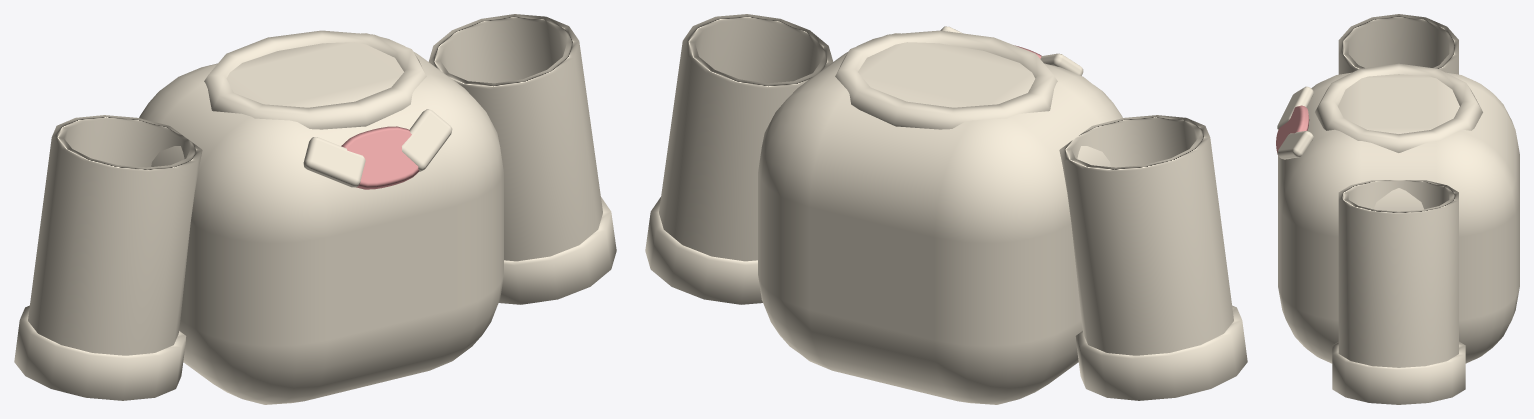
File: cardigan_school_uniform_top.glb
3 renders of one model, left to right at view 1: azimuth 30°, elevation 25°; view 2: azimuth 150°, elevation 25°; view 3: azimuth 270°, elevation 25°, orthographic. The views are drawn at different scales.
Parts seen in each view (by area): view 1: cardigan_school_uniform_top_Body, cardigan_school_uniform_top_ArmL, cardigan_school_uniform_top_ArmR; view 2: cardigan_school_uniform_top_Body, cardigan_school_uniform_top_ArmL, cardigan_school_uniform_top_ArmR; view 3: cardigan_school_uniform_top_Body, cardigan_school_uniform_top_ArmR, cardigan_school_uniform_top_ArmL.
Boxes of the visible parts, bbox=[...] form: cardigan_school_uniform_top_Body: bbox=[139, 30, 503, 404]; cardigan_school_uniform_top_ArmL: bbox=[14, 115, 202, 400]; cardigan_school_uniform_top_ArmR: bbox=[428, 14, 616, 304]; cardigan_school_uniform_top_Body: bbox=[758, 26, 1122, 404]; cardigan_school_uniform_top_ArmL: bbox=[1059, 115, 1247, 400]; cardigan_school_uniform_top_ArmR: bbox=[645, 14, 833, 304]; cardigan_school_uniform_top_Body: bbox=[1276, 63, 1519, 363]; cardigan_school_uniform_top_ArmR: bbox=[1332, 180, 1465, 404]; cardigan_school_uniform_top_ArmL: bbox=[1338, 14, 1458, 74].
Bounding box in the file's own units: 0.6504 × 0.3119 × 0.2923.
